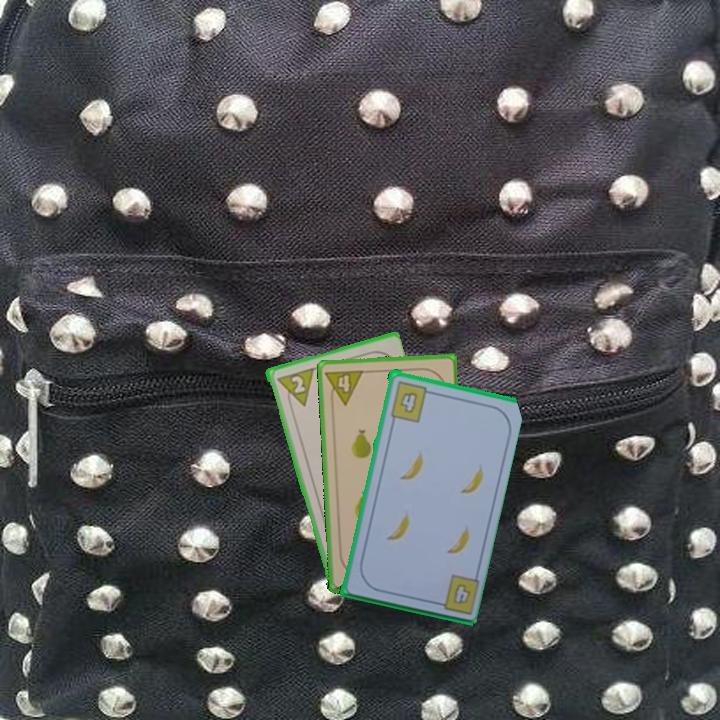2p: (273, 364, 316, 412)
4b: (430, 570, 480, 617), (386, 377, 435, 424)
4p: (322, 366, 366, 408)
